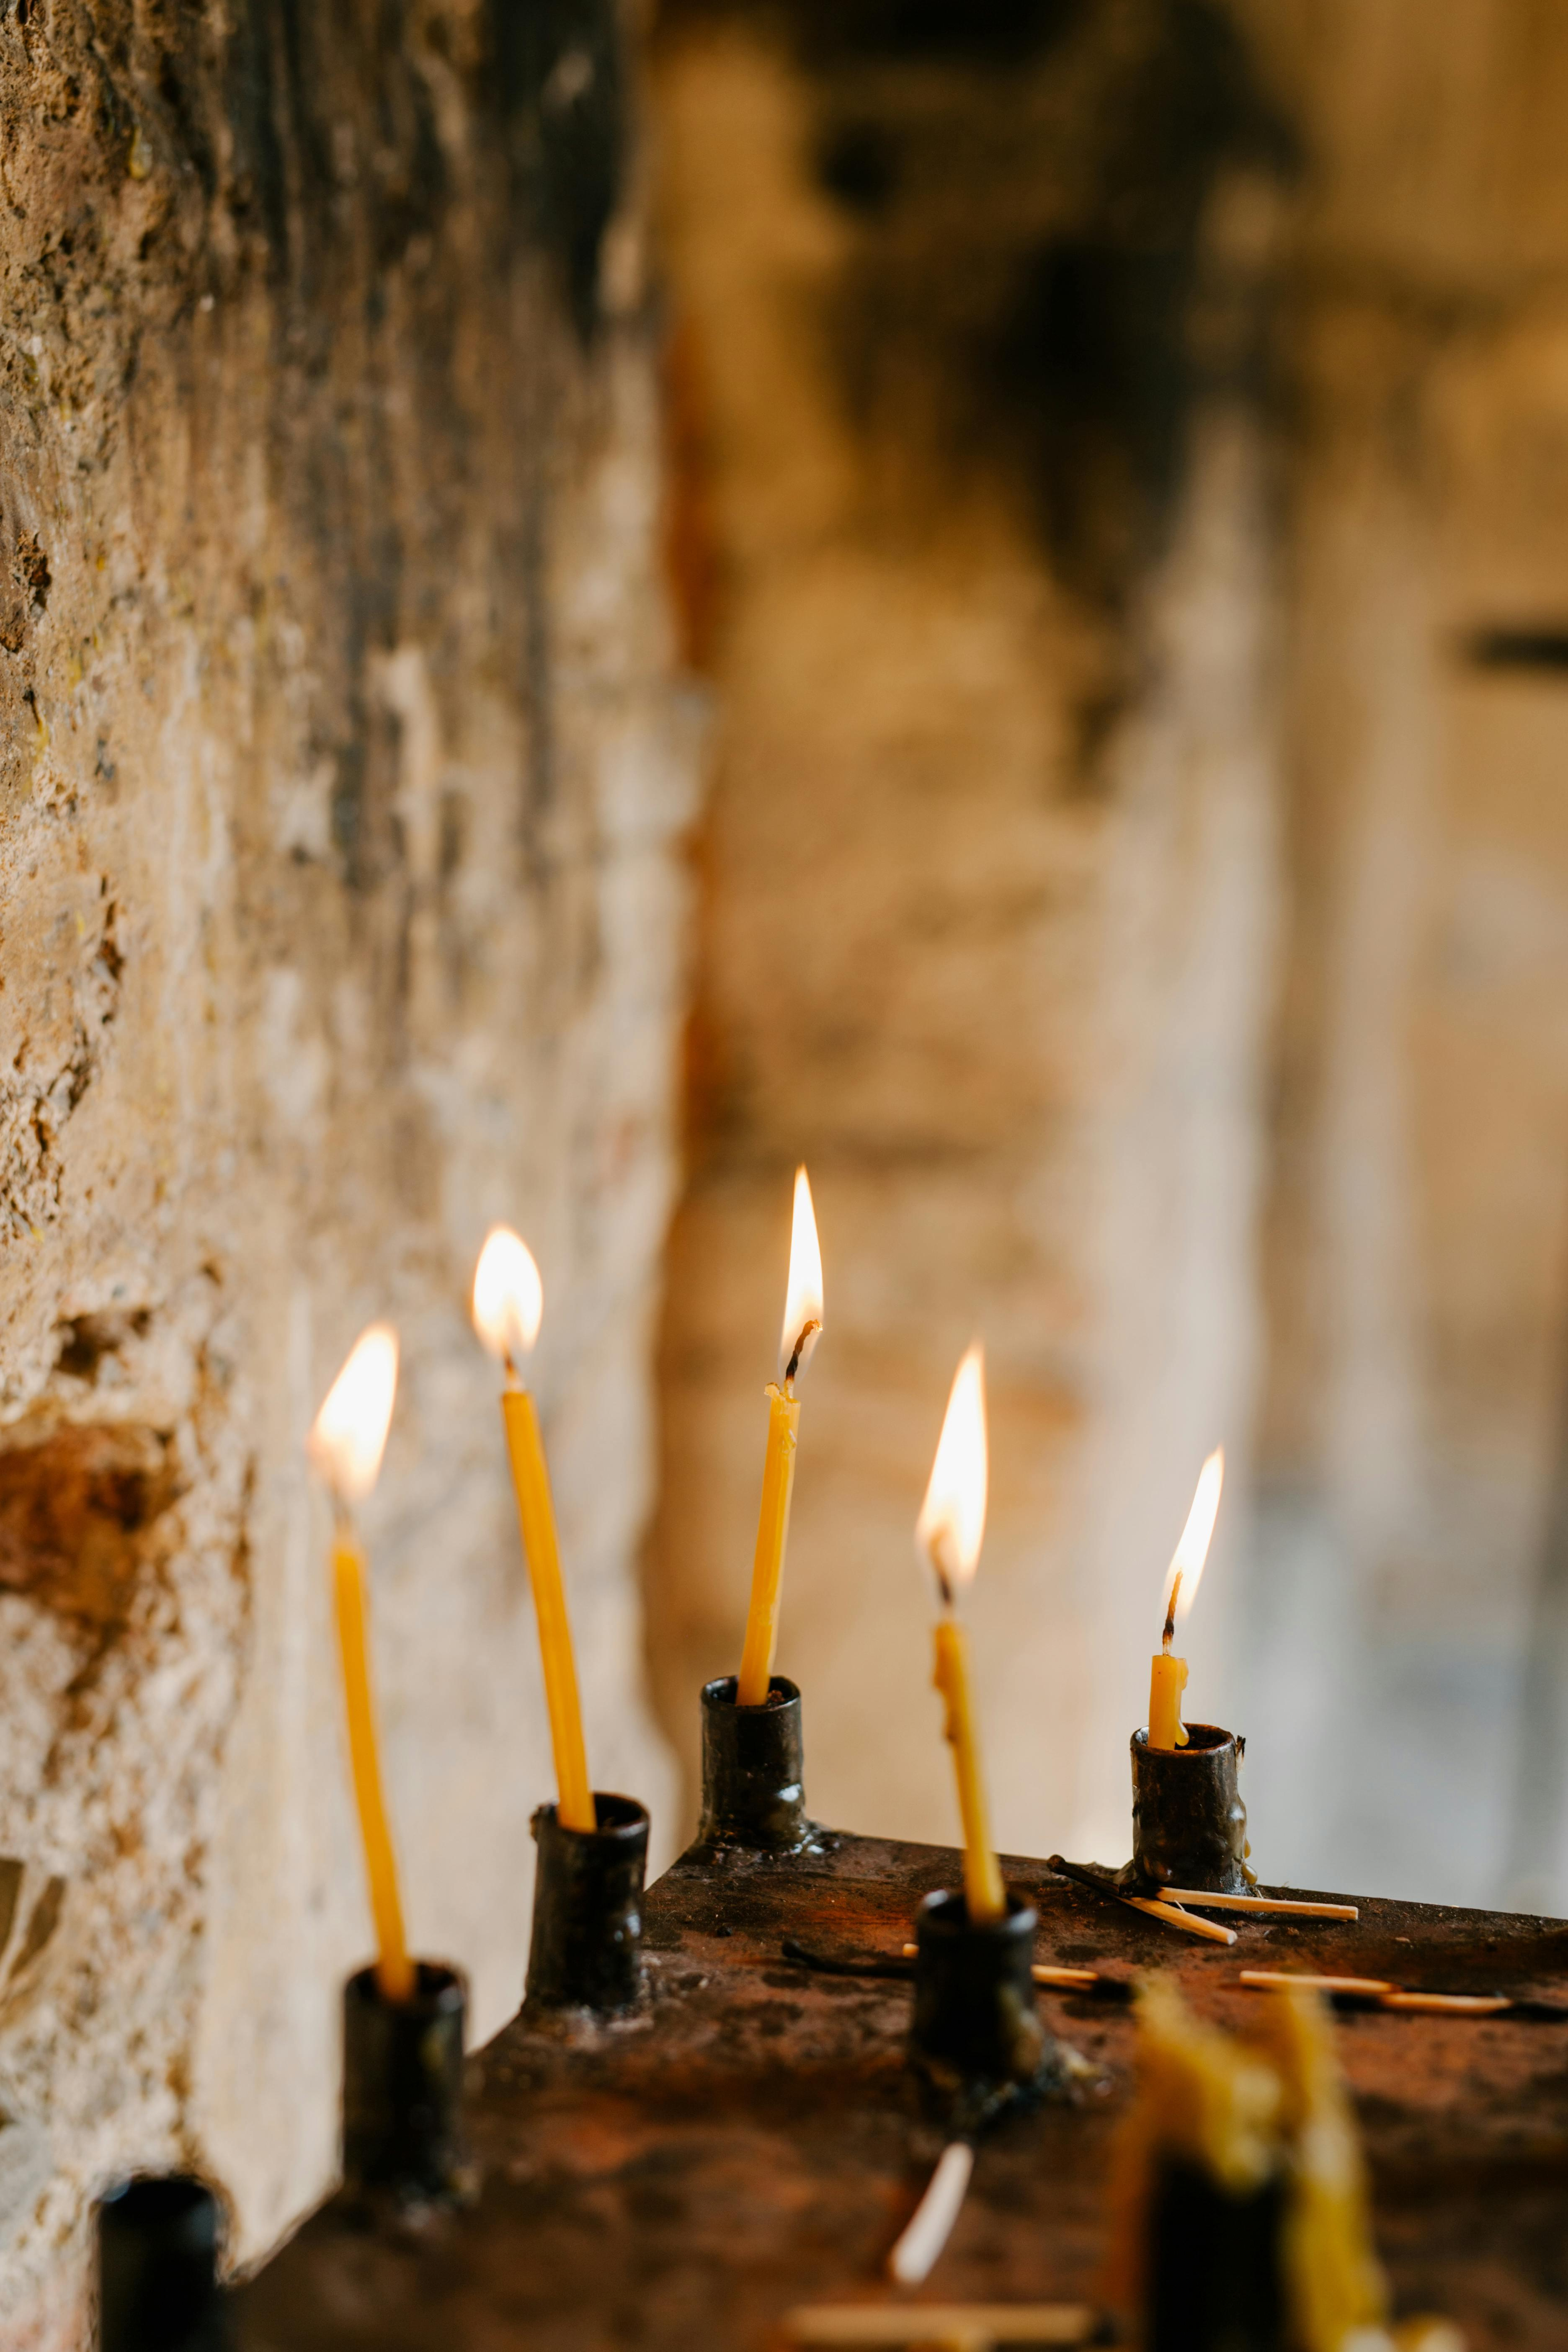Fire: (884, 1337, 1024, 1587), (1132, 1445, 1292, 1647), (738, 1132, 856, 1390), (273, 1298, 408, 1507), (441, 1202, 576, 1369), (872, 2131, 1001, 2303)
